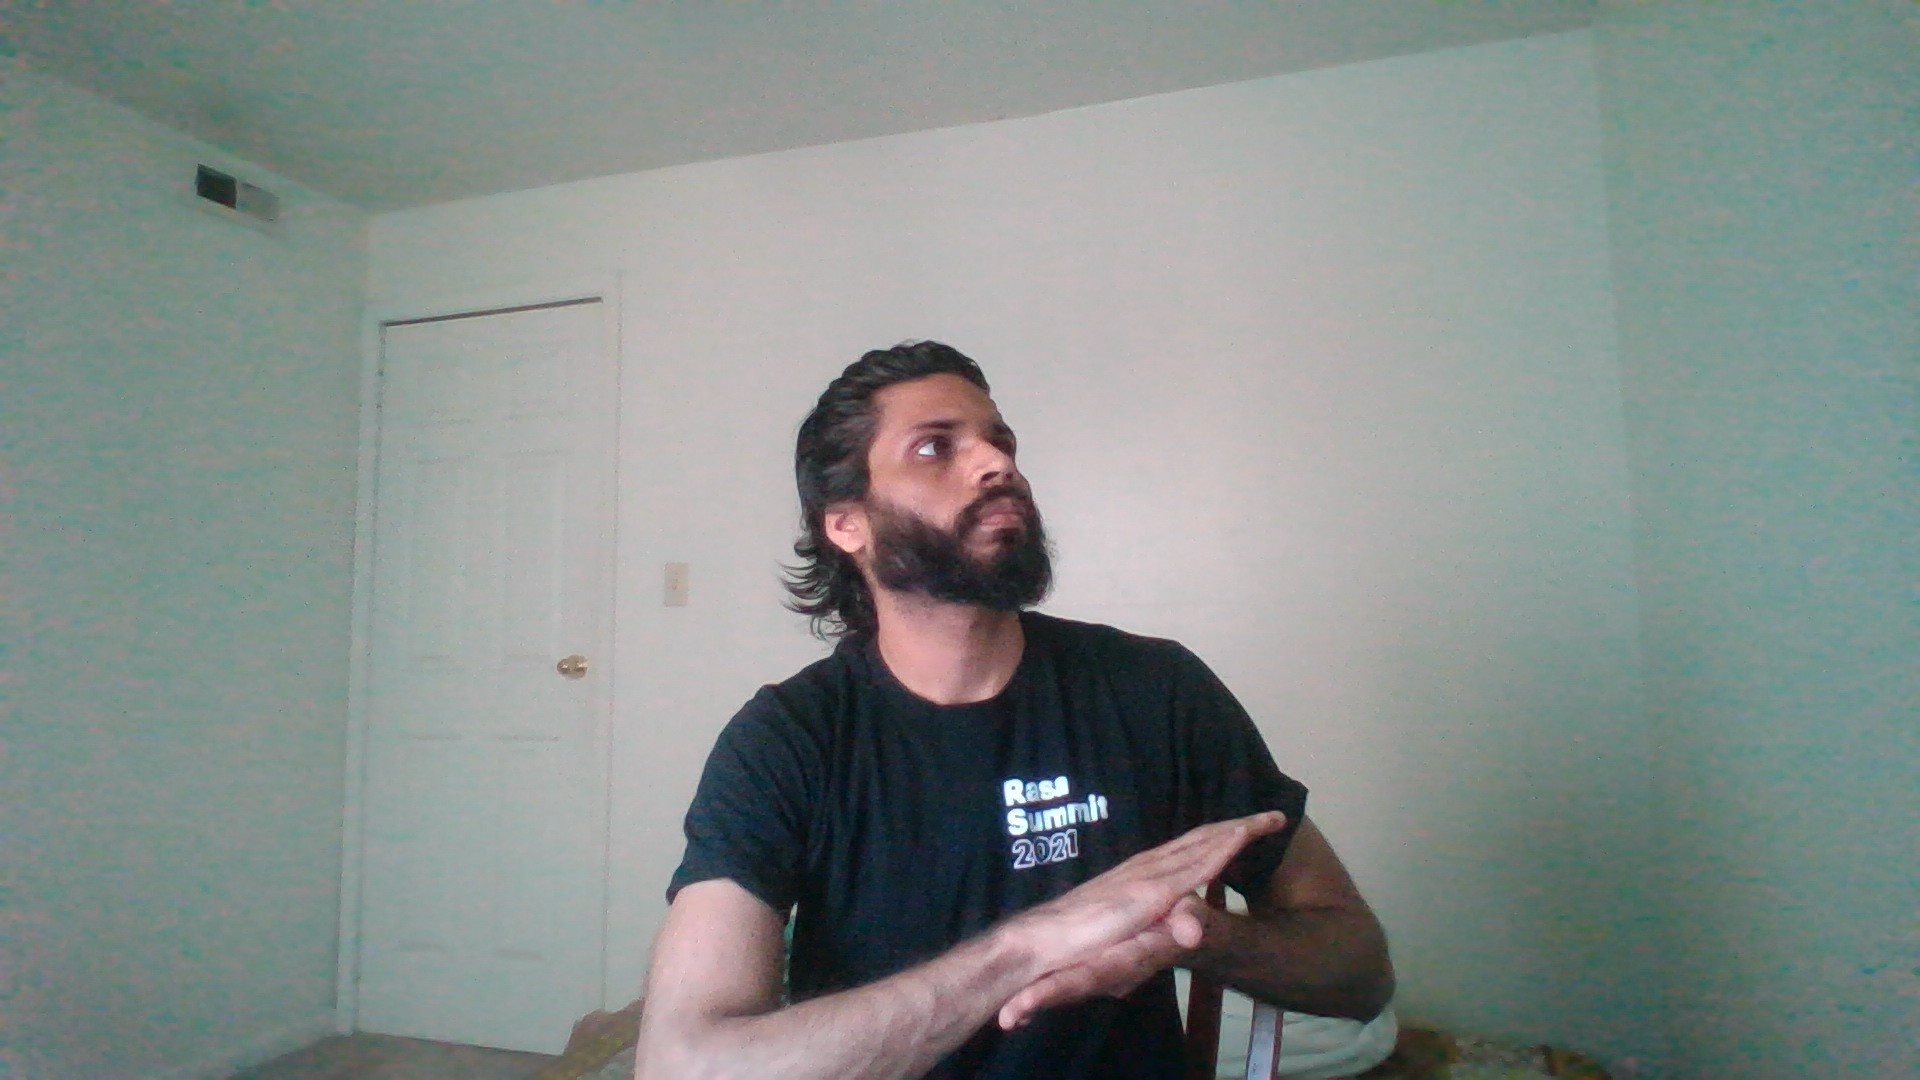Cheese: (920, 791, 1338, 1044)
